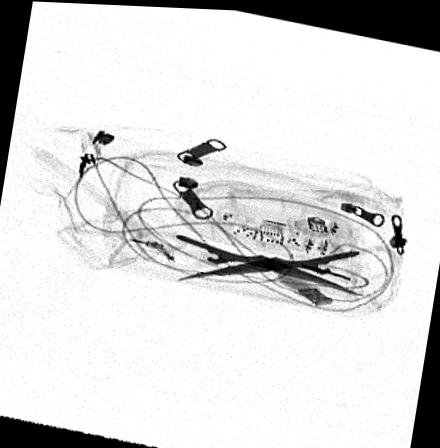Scissors: (130, 222, 403, 298)
